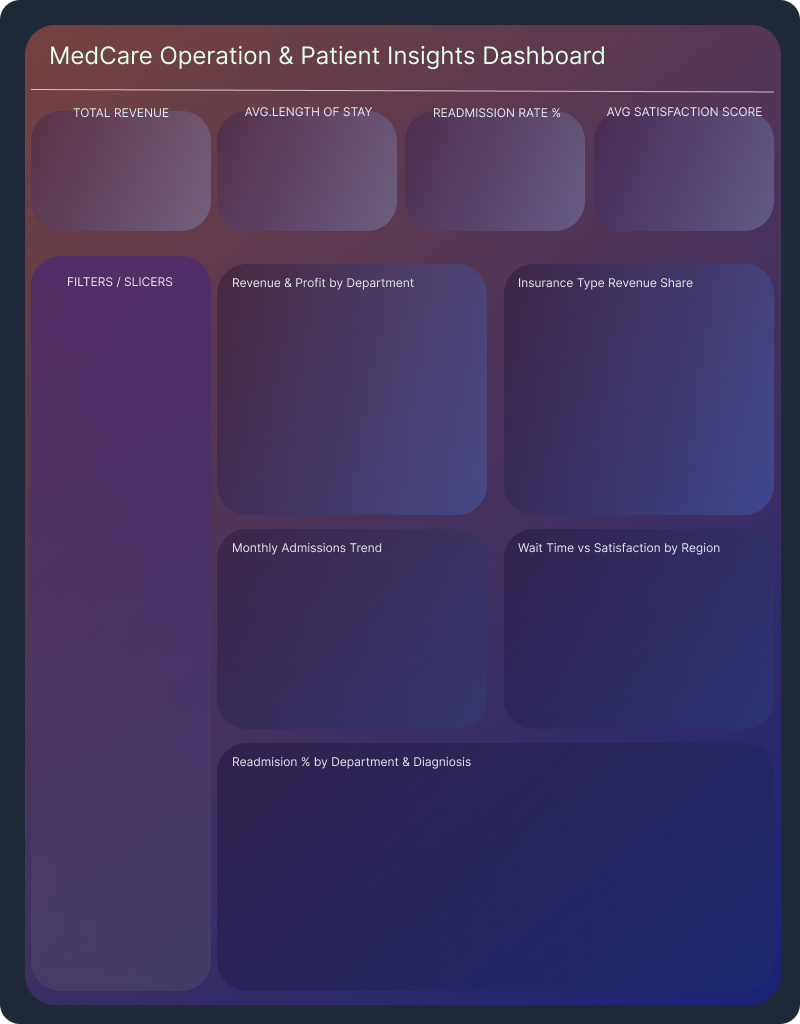

What the dashboard file says about the page in this screenshot:
{"tool":"powerbi","page":{"name":"Operation & Patient Insights ","canvas":[1280,1650],"ordinal":0},"visuals":[{"type":"cardVisual","fields":{"Data":["df.Total Revenue"]},"box":[50,200,284,146],"z":0},{"type":"cardVisual","fields":{"Data":["df.Average Length of Stay"]},"box":[350,198,290,150],"z":1000},{"type":"cardVisual","fields":{"Data":["df.Readmission Rate (%)"]},"box":[652,198,282,150],"z":2000},{"type":"cardVisual","fields":{"Data":["df.Average Satisfaction Score"]},"box":[954,200,282,150],"z":2001},{"type":"clusteredColumnChart","fields":{"Category":["df.Department"],"Y":["df.Total Revenue","df.Profit"]},"box":[350,466,430,378],"z":2002},{"type":"donutChart","fields":{"Category":["df.Insurance_Type"],"Y":["df.Total Revenue"]},"box":[812,482,424,344],"z":2003},{"type":"lineChart","fields":{"Category":["df.Admission_Month"],"Y":["df.Patient_ID"]},"box":[350,896,430,264],"z":2004},{"type":"slicer","fields":{"Values":["df.Year"]},"box":[68,456,266,112],"z":2005},{"type":"slicer","fields":{"Values":["df.Region"]},"box":[68,552,266,216],"z":2006},{"type":"slicer","fields":{"Values":["df.Department"]},"box":[68,768,266,336],"z":2007},{"type":"slicer","fields":{"Values":["df.Doctor_Name"]},"box":[68,1104,266,330],"z":2008},{"type":"slicer","fields":{"Values":["df.Insurance_Type"]},"box":[68,1434,266,158],"z":2009},{"type":"barChart","fields":{"Category":["df.Region"],"Y":["df.Wait_Time_Minutes","df.Satisfaction_Score"]},"box":[801.7,881.7,433.3,278.3],"z":2010},{"type":"pivotTable","fields":{"Rows":["df.Department"],"Columns":["df.Diagnosis"],"Values":["df.Readmission %"]},"box":[353.3,1241.7,881.7,350],"z":2011}]}

Visuals, with their boxes in screenshot pixels (x1, y1, x2, y2), scaled from the page's 1280x1650 canvas onto the 800x1024 screenshot:
cardVisual - df.Total Revenue: x1=31 y1=124 x2=209 y2=215
cardVisual - df.Average Length of Stay: x1=219 y1=123 x2=400 y2=216
cardVisual - df.Readmission Rate (%): x1=408 y1=123 x2=584 y2=216
cardVisual - df.Average Satisfaction Score: x1=596 y1=124 x2=772 y2=217
clusteredColumnChart - df.Department x df.Total Revenue: x1=219 y1=289 x2=488 y2=524
donutChart - df.Insurance_Type x df.Total Revenue: x1=508 y1=299 x2=772 y2=513
lineChart - df.Admission_Month x df.Patient_ID: x1=219 y1=556 x2=488 y2=720
slicer - df.Year: x1=42 y1=283 x2=209 y2=353
slicer - df.Region: x1=42 y1=343 x2=209 y2=477
slicer - df.Department: x1=42 y1=477 x2=209 y2=685
slicer - df.Doctor_Name: x1=42 y1=685 x2=209 y2=890
slicer - df.Insurance_Type: x1=42 y1=890 x2=209 y2=988
barChart - df.Region x df.Wait_Time_Minutes: x1=501 y1=547 x2=772 y2=720
pivotTable - df.Department x df.Diagnosis: x1=221 y1=771 x2=772 y2=988
